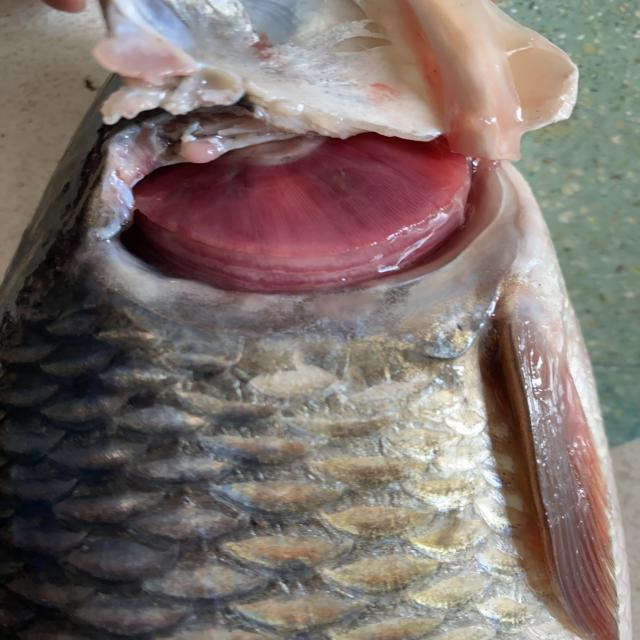Fresh: (64, 91, 538, 310)
